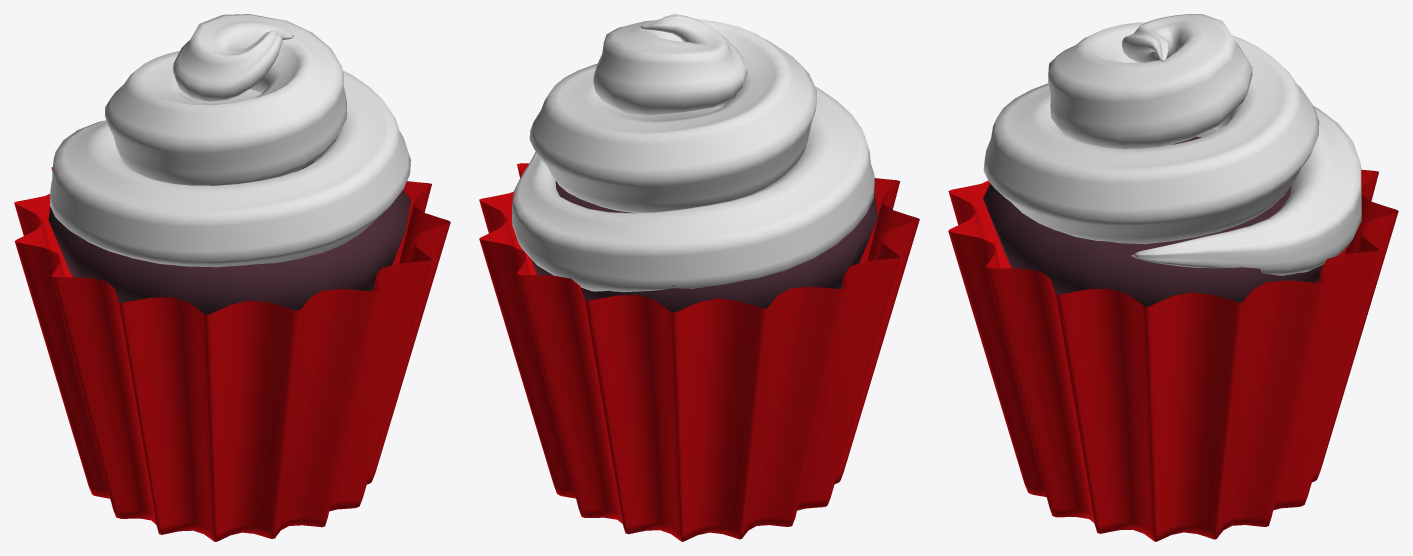
The model's file is magdalena.fbx.
3 renders of one model, left to right at view 1: azimuth 30°, elevation 25°; view 2: azimuth 150°, elevation 25°; view 3: azimuth 270°, elevation 25°, orthographic. The views are drawn at different scales.
Parts seen in each view (by area): view 1: Base, Spiral, Magdalena; view 2: Base, Spiral, Magdalena; view 3: Base, Spiral, Magdalena.
Boxes of the visible parts, <box> form: Base: <box>14,167,450,541</box>; Spiral: <box>50,14,410,267</box>; Magdalena: <box>48,160,411,314</box>; Base: <box>479,163,919,541</box>; Spiral: <box>512,14,874,292</box>; Magdalena: <box>531,180,878,312</box>; Base: <box>948,169,1398,541</box>; Spiral: <box>983,14,1361,275</box>; Magdalena: <box>983,136,1338,306</box>.
Bounding box in the file's own units: 196 × 223 × 195.
